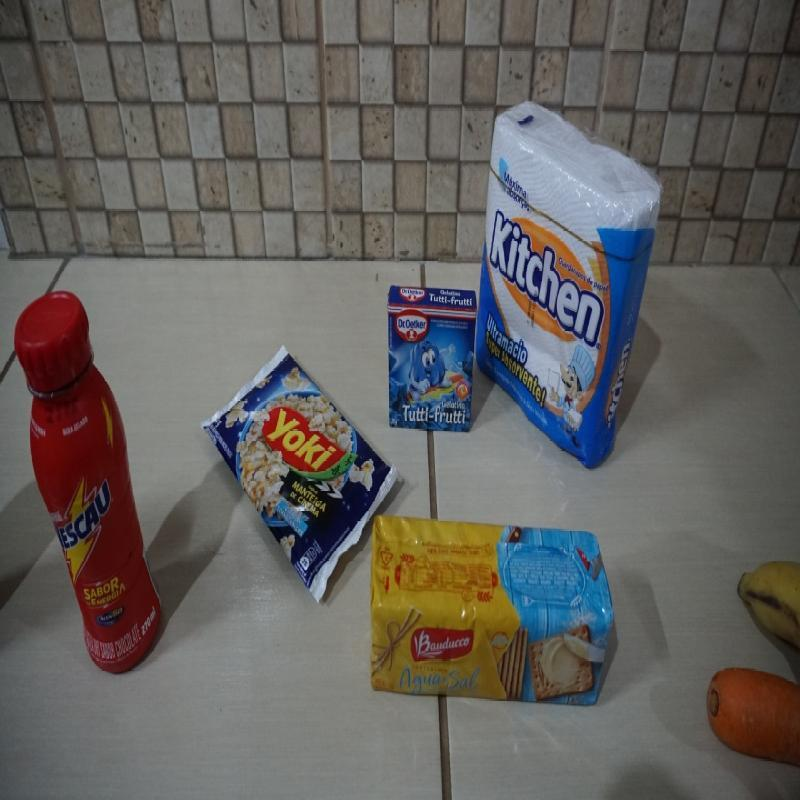Banana: (729, 541, 800, 653), (735, 551, 800, 650)
Carrot: (705, 660, 796, 770), (705, 657, 800, 755)
Chocolate Milk: (13, 289, 163, 678), (11, 293, 161, 664)
Cracker: (370, 516, 614, 722), (367, 515, 614, 717)
Gelatine: (383, 272, 480, 440), (383, 283, 478, 433)
Napkin: (484, 76, 664, 472), (474, 97, 662, 472)
Popcorn: (201, 342, 398, 606), (212, 334, 382, 606)
